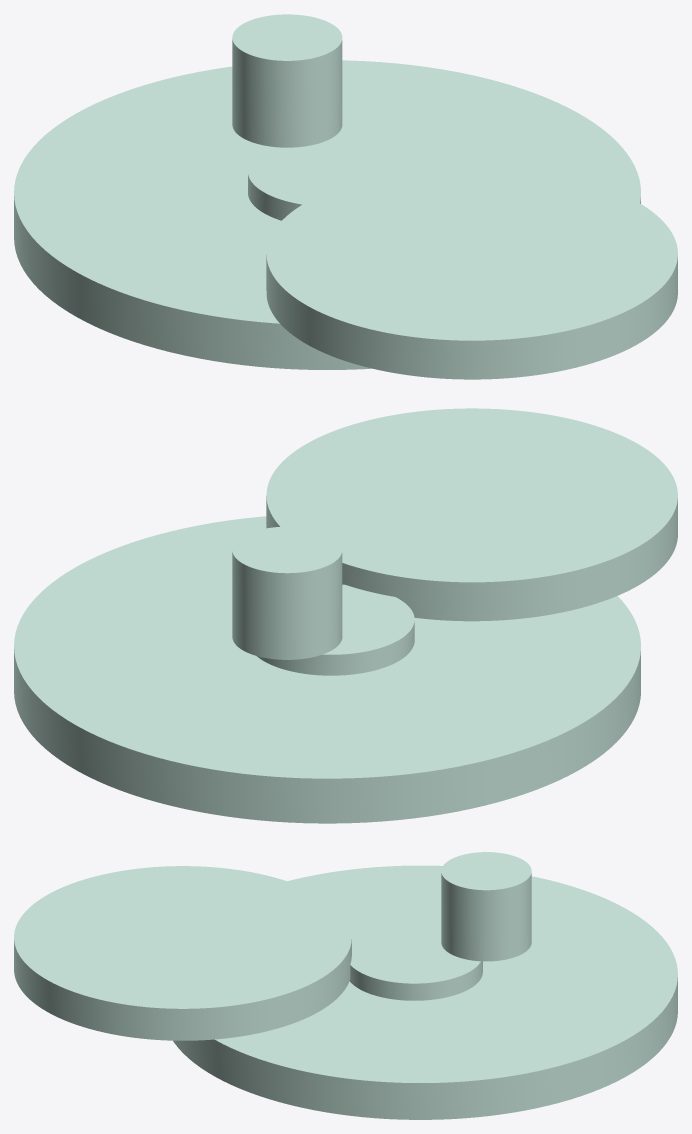
The picture shows the model from 3 angles, top to bottom: view 1: azimuth 30°, elevation 25°; view 2: azimuth 150°, elevation 25°; view 3: azimuth 270°, elevation 25°; orthographic projection. The views are drawn at different scales.
Parts seen in each view (by area): view 1: Renderer Node; view 2: Renderer Node; view 3: Renderer Node.
Part boxes in pixels (left/top/right/bottom): Renderer Node: left=14, top=14, right=677, bottom=379; Renderer Node: left=14, top=408, right=677, bottom=823; Renderer Node: left=14, top=852, right=677, bottom=1119.
Bounding box in the file's own units: 1.48 × 0.4453 × 1.91.
